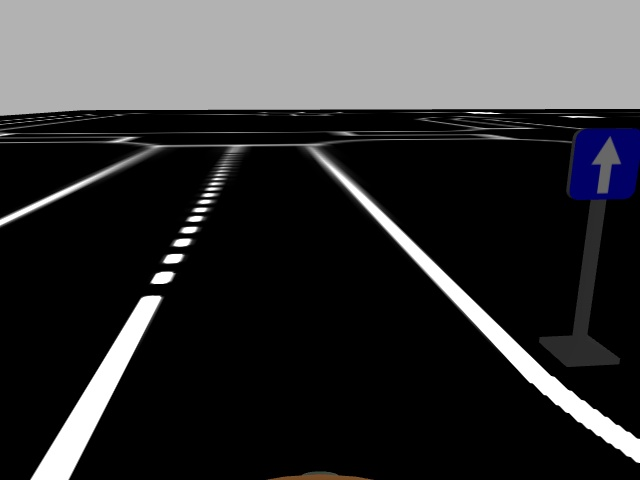oneway: (565, 127, 640, 205)
